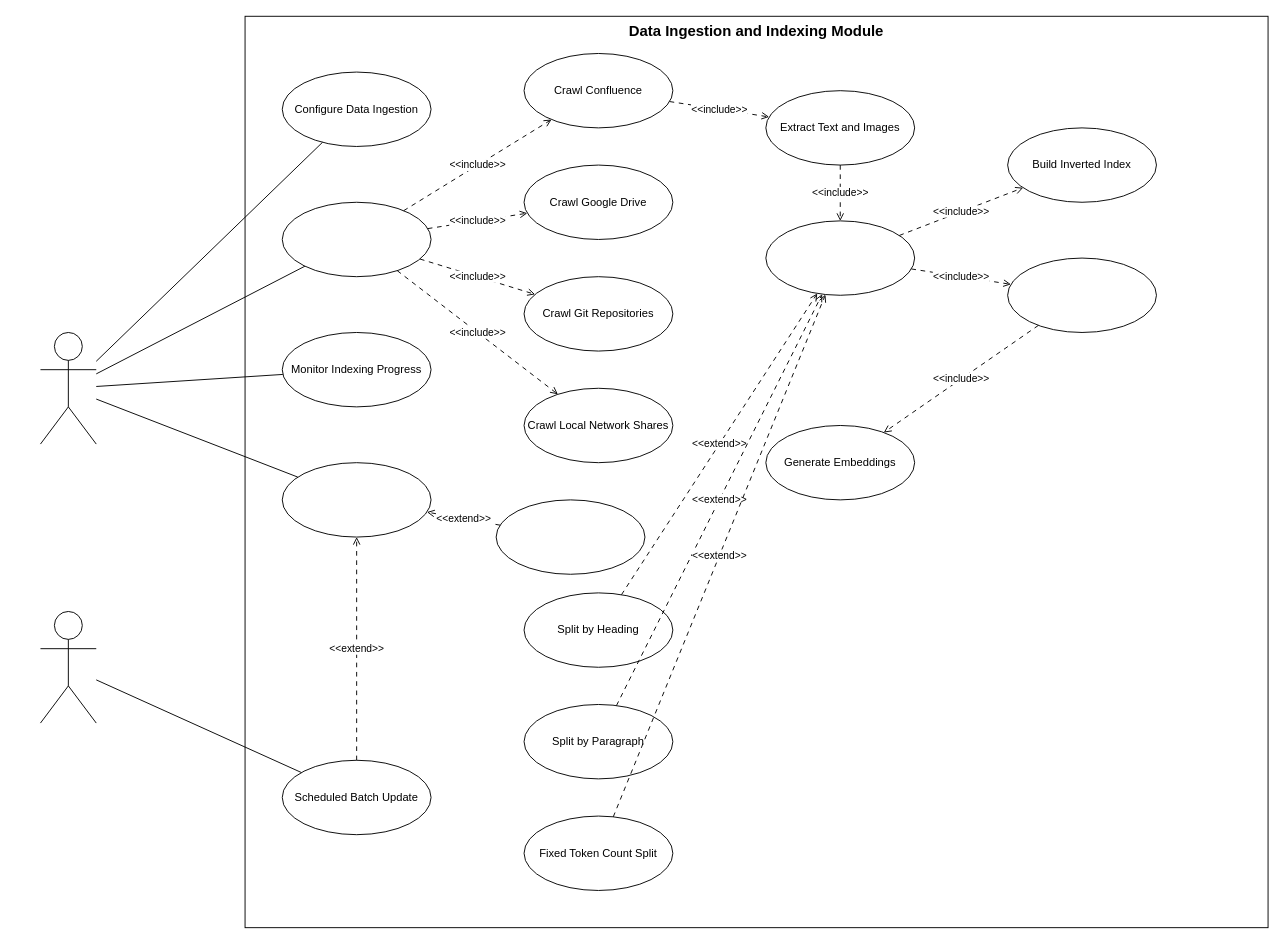
This 1284x944 diagram has some shape labels left out. Here are the shapes that lost their labels. From the top down, the box of each, then its label:
(281, 201, 431, 277): Trigger Crawling Job
(765, 220, 915, 295): Chunk Documents
(1007, 257, 1156, 332): Build Vector Index (HNSW)
(40, 332, 96, 444): System Administrator
(281, 462, 431, 537): Manage Index Refresh Schedule
(495, 499, 645, 574): Real-time Sync
(40, 611, 96, 723): Scheduler
